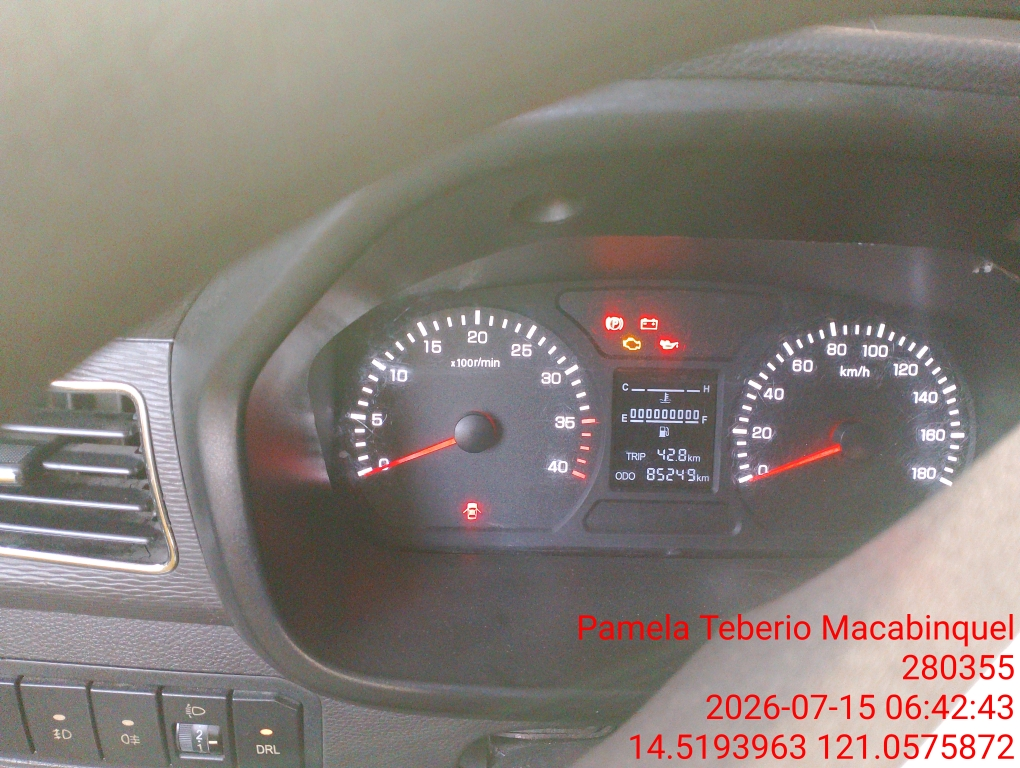grid_pose: (97, 37, 698, 424)
